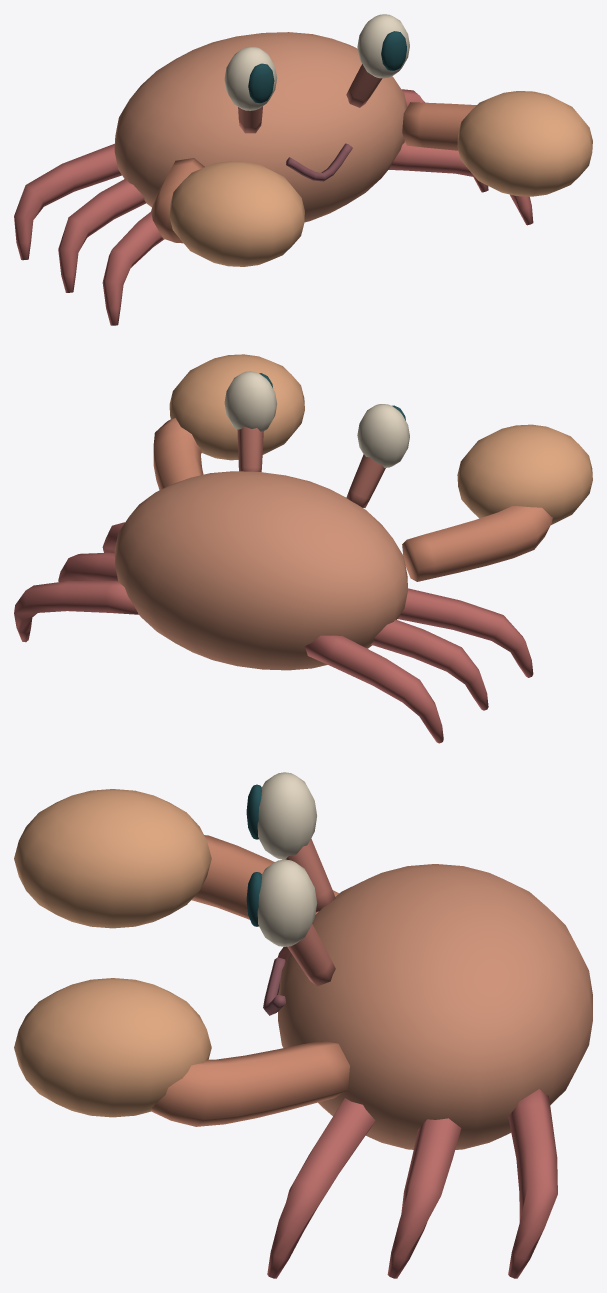
The model's file is crab.glb.
3 views of the same model, one above another, from view 1: azimuth 30°, elevation 25°; view 2: azimuth 150°, elevation 25°; view 3: azimuth 270°, elevation 25° (orthographic). The views are drawn at different scales.
Parts seen in each view (by area): view 1: food_crab_painted_mesh; view 2: food_crab_painted_mesh; view 3: food_crab_painted_mesh.
Boxes of the visible parts, bbox=[...] form: food_crab_painted_mesh: bbox=[14, 14, 592, 325]; food_crab_painted_mesh: bbox=[14, 354, 592, 743]; food_crab_painted_mesh: bbox=[14, 772, 592, 1278].
Size of the model in its own units: 1.53 by 0.8288 by 1.35.
